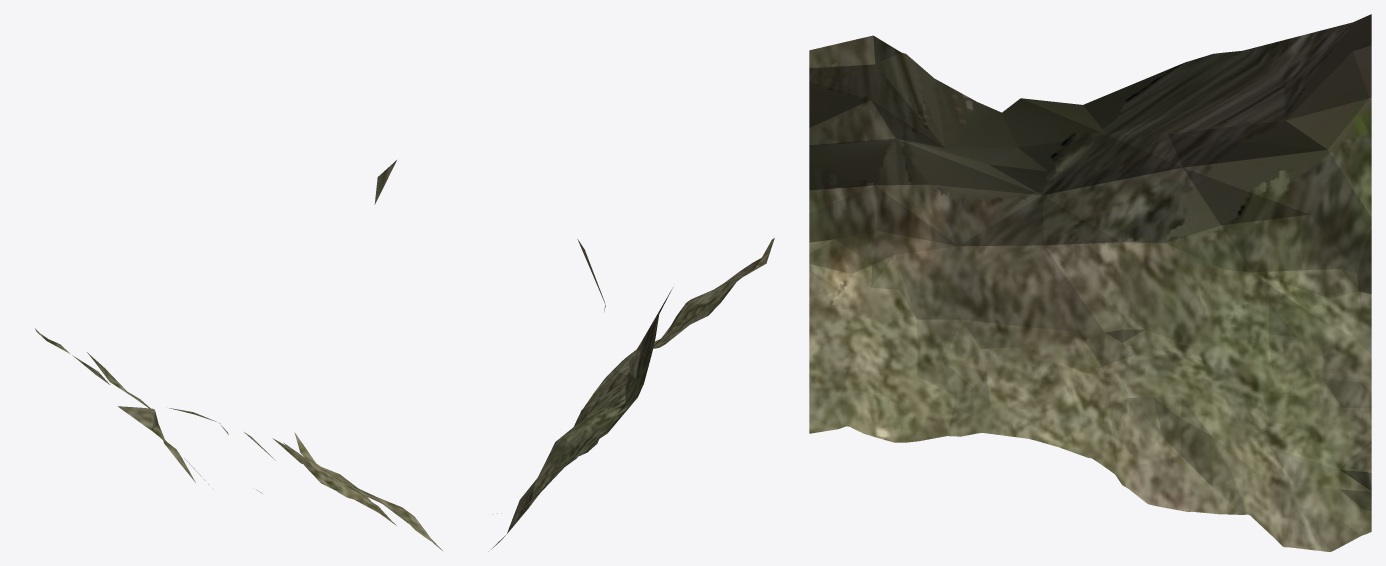
The picture shows the model from 3 angles, left to right: view 1: azimuth 30°, elevation 25°; view 2: azimuth 150°, elevation 25°; view 3: azimuth 270°, elevation 25°; orthographic projection. The views are drawn at different scales.
Size of the model in its own units: 1.04 by 2.88 by 2.95.
Materials: 3 (3 with a texture image).
